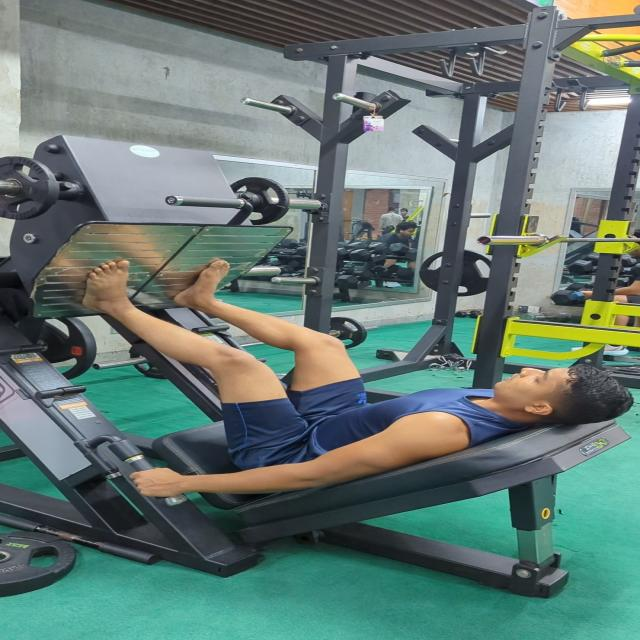Normal_LegPress: (62, 252, 631, 508)
